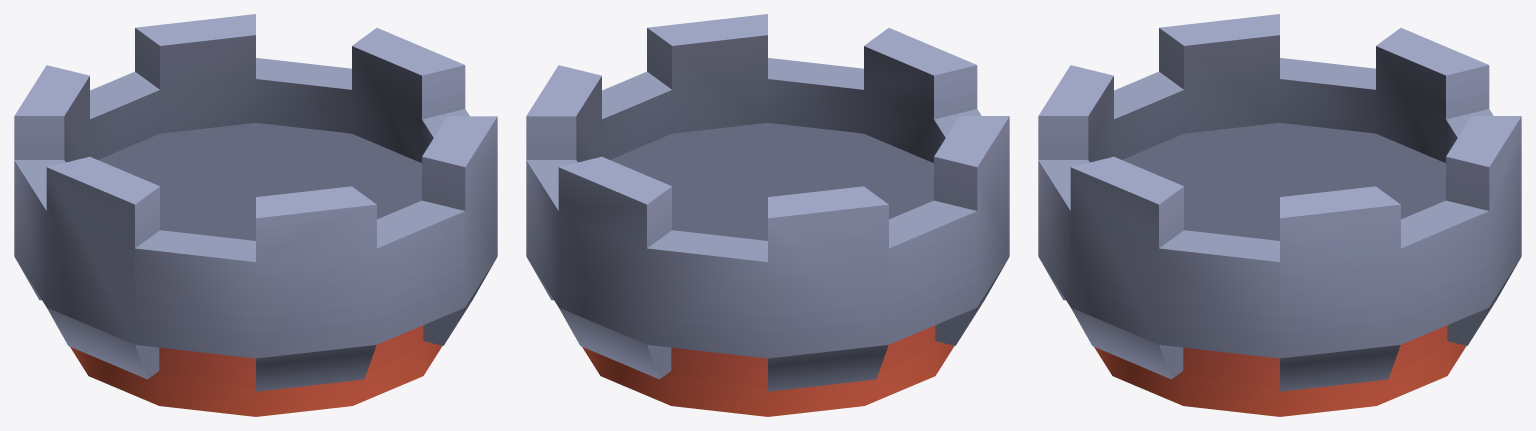
The model's file is tower-round-top-b.glb.
3 views of the same model, side by side, from view 1: azimuth 30°, elevation 25°; view 2: azimuth 150°, elevation 25°; view 3: azimuth 270°, elevation 25° (orthographic).
Visible parts, largest first — view 1: tower-round-top-b; view 2: tower-round-top-b; view 3: tower-round-top-b.
Part boxes in pixels (<box>): tower-round-top-b: <box>14,14,497,416</box>; tower-round-top-b: <box>526,14,1009,416</box>; tower-round-top-b: <box>1038,14,1521,416</box>.
Size of the model in its own units: 1 by 0.5001 by 1.
1 material, 1 textured.
